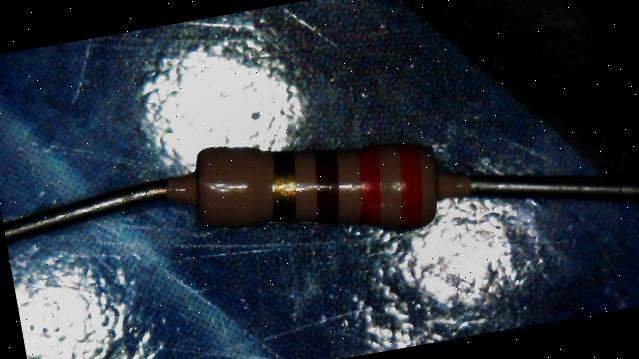brown: (306, 147, 347, 223)
gold: (264, 148, 304, 222)
orange: (387, 141, 432, 228), (350, 144, 390, 225)
resistor: (169, 132, 470, 255)
